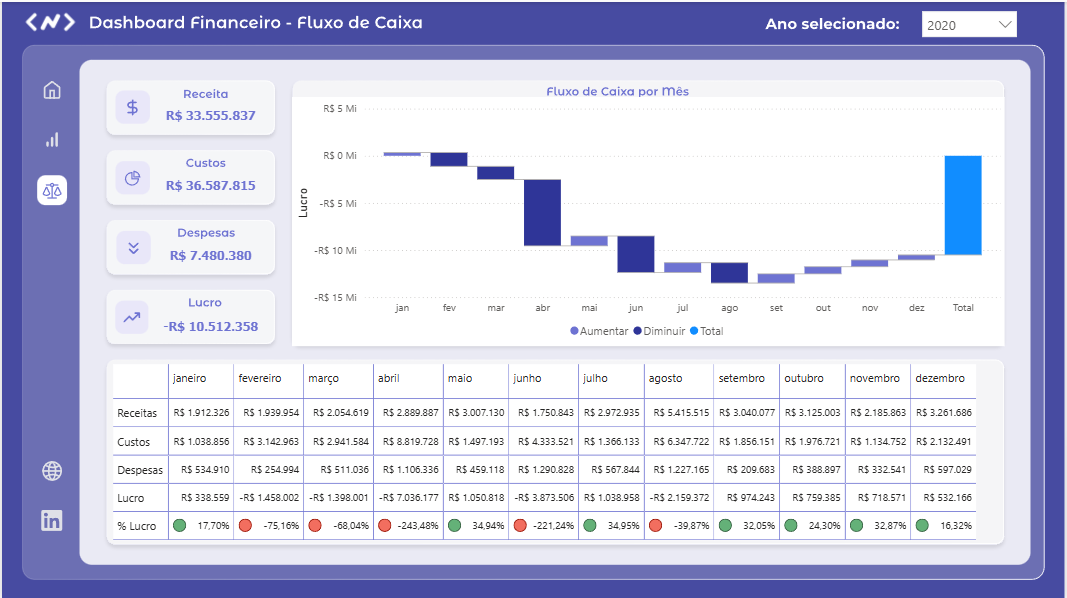

The page's visual inventory and layout, read from the dashboard file:
{"tool":"powerbi","page":{"name":"Detalhamento","canvas":[1280,720],"ordinal":1},"visuals":[{"type":"card","fields":{"Values":["_medidas.Receitas"]},"box":[176.1,113,151.1,49.9],"z":0},{"type":"card","fields":{"Values":["_medidas.Custos"]},"box":[176.1,201,151.1,44.7],"z":1},{"type":"card","fields":{"Values":["_medidas.Despesas"]},"box":[176.1,285.1,151.1,43.4],"z":2},{"type":"card","fields":{"Values":["_medidas.Lucro"]},"box":[176.1,370.5,151.1,44.7],"z":3},{"type":"slicer","fields":{"Values":["dCalendario.Ano"]},"box":[1098.4,1.3,134,46],"z":4},{"type":"waterfallChart","fields":{"Y":["_medidas.Lucro"],"Category":["dCalendario.Mês abreviado"]},"box":[349.5,115,858.4,300.5],"z":5},{"type":"pivotTable","fields":{"Values":["_medidas.Receitas","_medidas.Custos","_medidas.Despesas","_medidas.Lucro","_medidas.% Lucro"],"Columns":["dCalendario.Nome do Mês"]},"box":[128.8,430.8,1079.2,222.3],"z":6},{"type":"actionButton","box":[34.2,138,51.2,48.6],"z":7},{"type":"actionButton","box":[34.2,78.8,51.2,48.6],"z":8}]}

Visuals, with their boxes in screenshot pixels (x1, y1, x2, y2), scaled from the page's 1280x720 canvas onto the 1067x598 screenshot:
card - _medidas.Receitas: region(147, 94, 273, 135)
card - _medidas.Custos: region(147, 167, 273, 204)
card - _medidas.Despesas: region(147, 237, 273, 273)
card - _medidas.Lucro: region(147, 308, 273, 345)
slicer - dCalendario.Ano: region(916, 1, 1027, 39)
waterfallChart - _medidas.Lucro x dCalendario.Mês abreviado: region(291, 96, 1007, 345)
pivotTable - _medidas.Receitas x _medidas.Custos: region(107, 358, 1007, 542)
actionButton: region(29, 115, 71, 155)
actionButton: region(29, 65, 71, 106)
